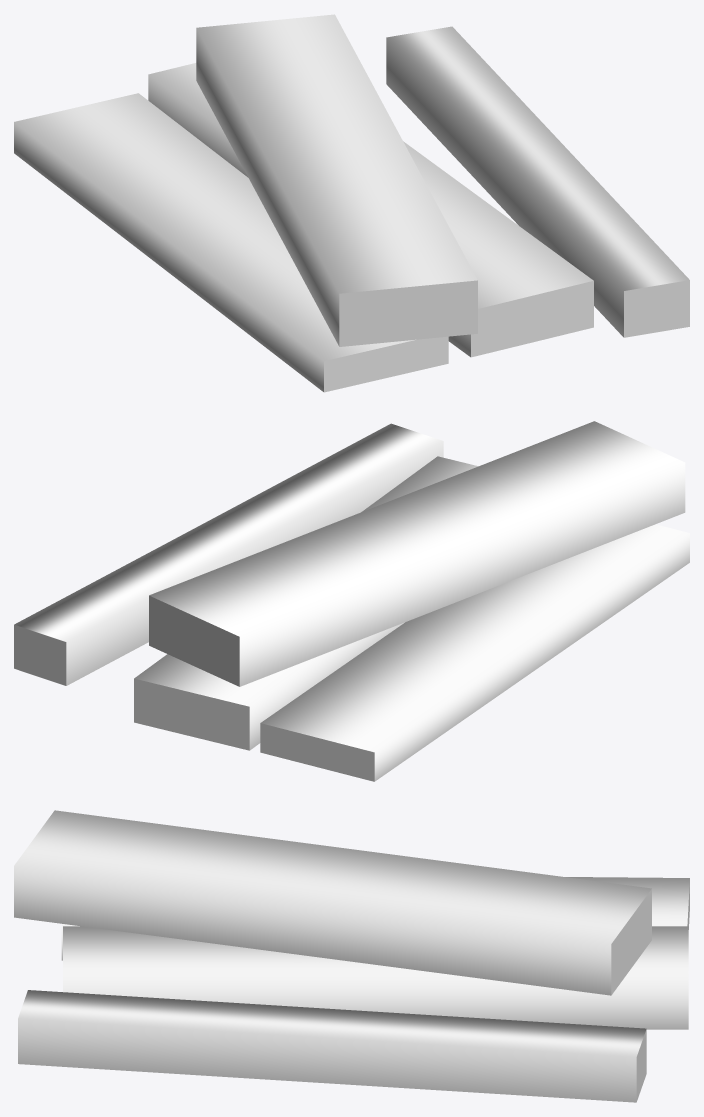
File: platform-planks.glb
3 renders of one model, top to bottom at view 1: azimuth 30°, elevation 25°; view 2: azimuth 150°, elevation 25°; view 3: azimuth 270°, elevation 25°, orthographic. The views are drawn at different scales.
Visible parts, largest first — view 1: platform-planks; view 2: platform-planks; view 3: platform-planks.
Part boxes in pixels (<box>): platform-planks: <box>14,14,689,392</box>; platform-planks: <box>14,421,689,781</box>; platform-planks: <box>14,810,689,1102</box>.
Bounding box in the file's own units: 1.89 × 0.4279 × 2.7.
1 material, 1 textured.
